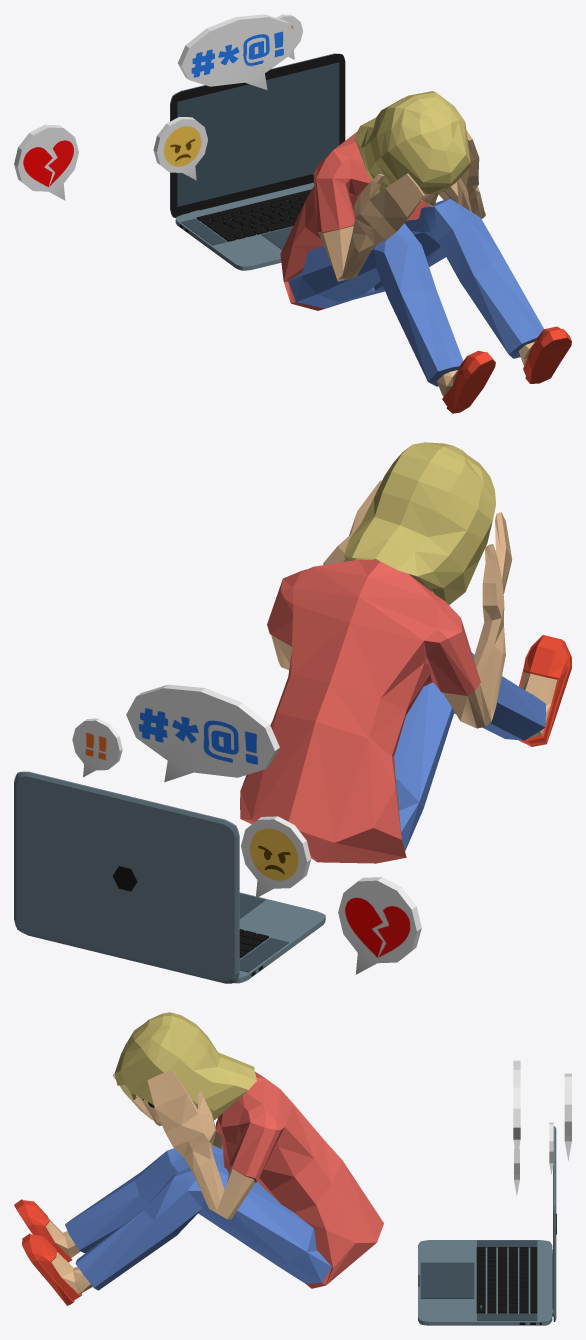
Rendered from Cyber Bullying 01.fbx.
3 views of the same model, one above another, from view 1: azimuth 30°, elevation 25°; view 2: azimuth 150°, elevation 25°; view 3: azimuth 270°, elevation 25° (orthographic). The views are drawn at different scales.
Parts seen in each view (by area): view 1: mesh485226738; view 2: mesh485226738; view 3: mesh485226738.
Boxes of the visible parts, x1,y1,x2,y2 form: mesh485226738: (14,14,571,413); mesh485226738: (14,442,571,983); mesh485226738: (14,1012,571,1325).
Size of the model in its own units: 12.84 by 10.3 by 20.08.
Materials: 7 (2 with a texture image).
